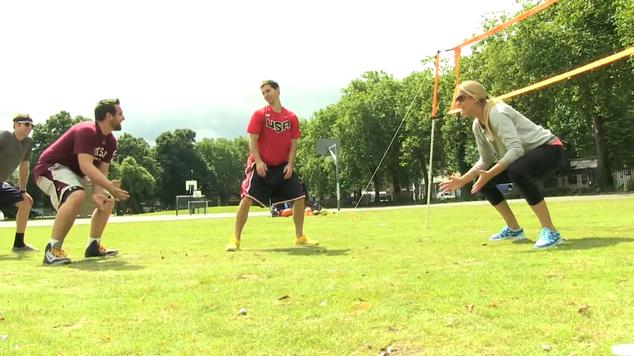crouch: (461, 55, 561, 244)
sit: (39, 110, 140, 259)
